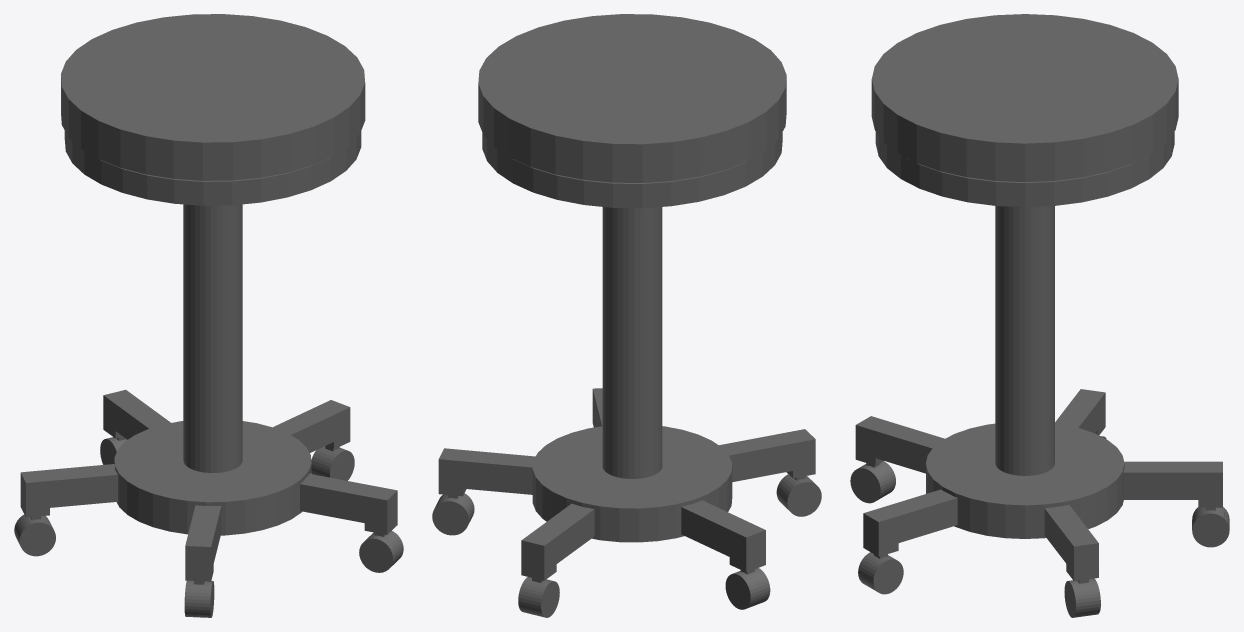
Rendered from stool.fbx.
The picture shows the model from 3 angles, left to right: view 1: azimuth 30°, elevation 25°; view 2: azimuth 150°, elevation 25°; view 3: azimuth 270°, elevation 25°; orthographic projection.
Visible parts, largest first — view 1: LowPoly; view 2: LowPoly; view 3: LowPoly.
Boxes of the visible parts, bbox=[...] form: LowPoly: bbox=[14, 14, 403, 617]; LowPoly: bbox=[432, 14, 821, 617]; LowPoly: bbox=[850, 14, 1229, 617].
Bounding box in the file's own units: 1030 × 1365 × 1013.
1 material, 1 textured.
